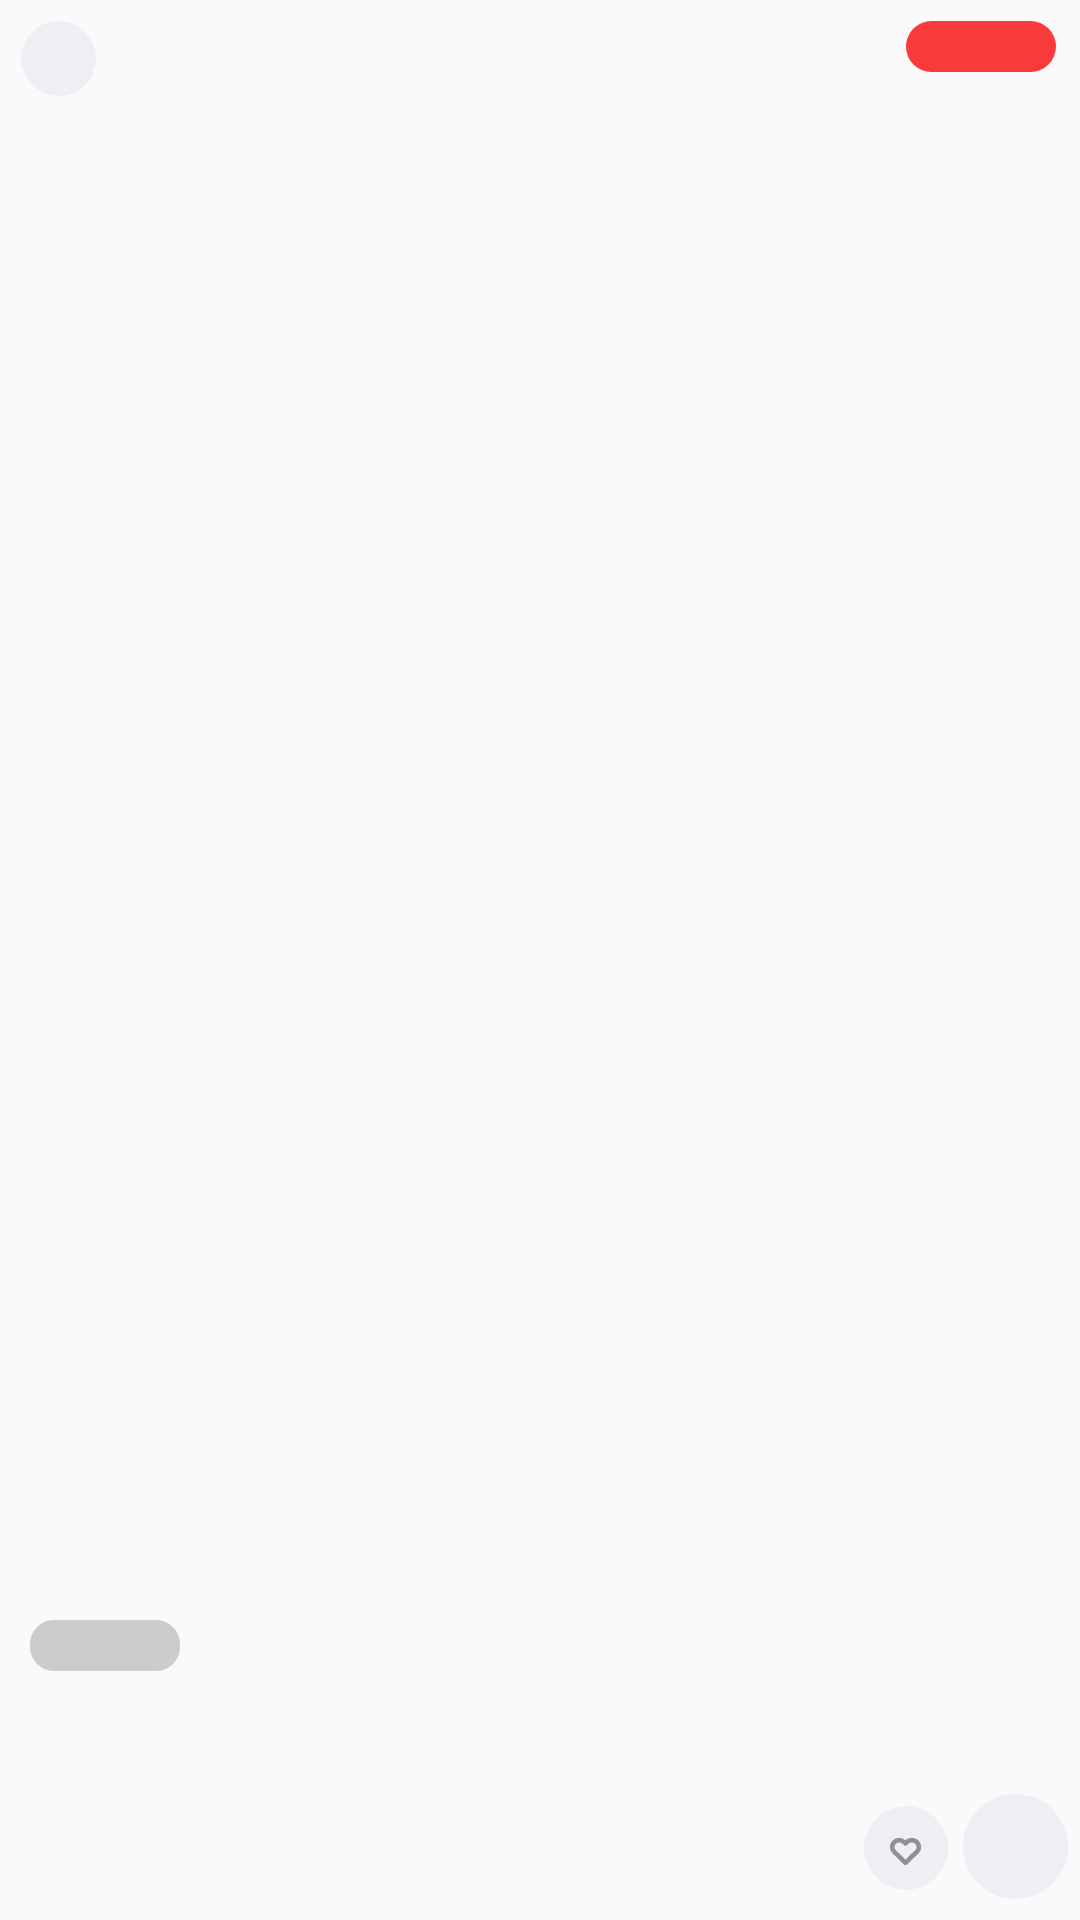

Named icons in this screenshot (1080×1920) and their centers, [x,y]:
like passive: [906,1848]
